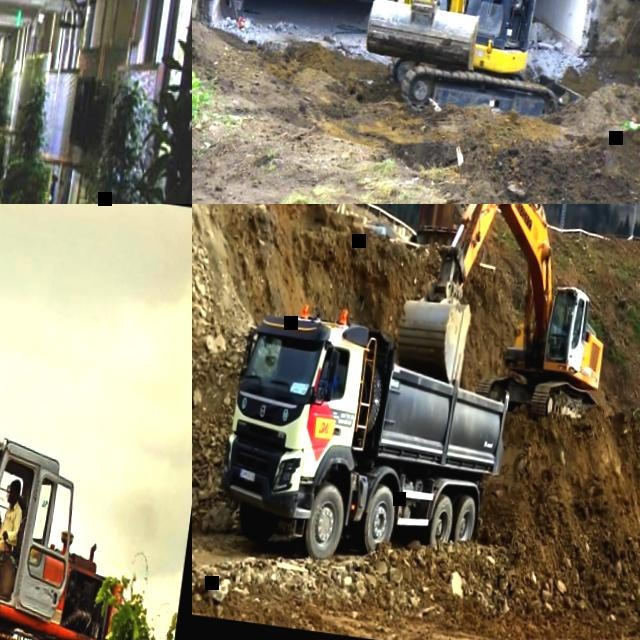NO-Hardhat: (8, 473, 24, 491)
NO-Mask: (7, 492, 18, 504)
NO-Safety Vest: (0, 503, 20, 540), (321, 372, 338, 388)
Person: (0, 469, 26, 589), (470, 0, 530, 25), (312, 356, 340, 393), (563, 314, 580, 353)
machinery: (211, 294, 521, 584), (0, 204, 172, 640), (387, 204, 630, 425), (359, 0, 619, 132)
